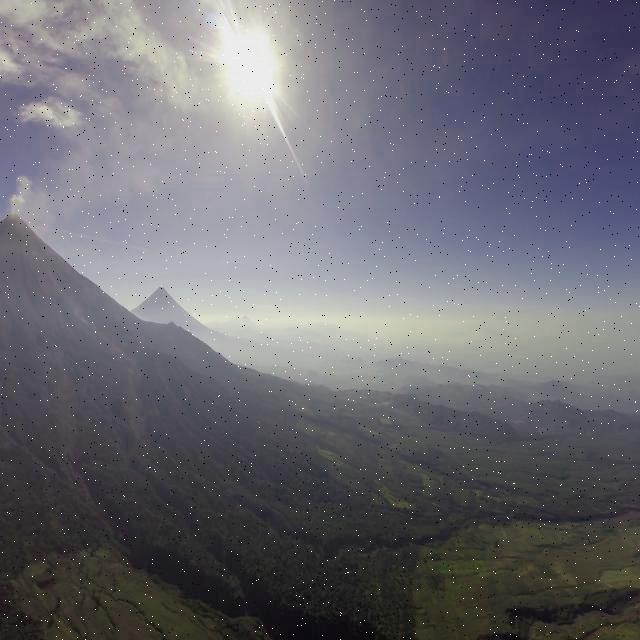Plume: (20, 96, 83, 134), (10, 175, 33, 215)
Summit: (0, 207, 44, 248)
